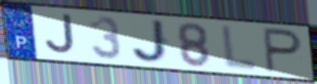3: (86, 15, 123, 62)
8: (176, 22, 213, 68)
J: (130, 19, 172, 65), (43, 13, 78, 57)
L: (220, 24, 259, 73)
P: (261, 26, 304, 75)
